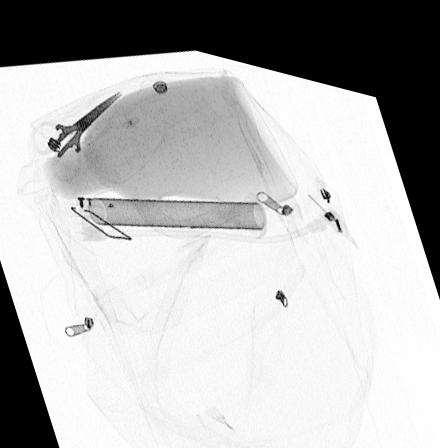Scissors: (25, 84, 122, 180)
